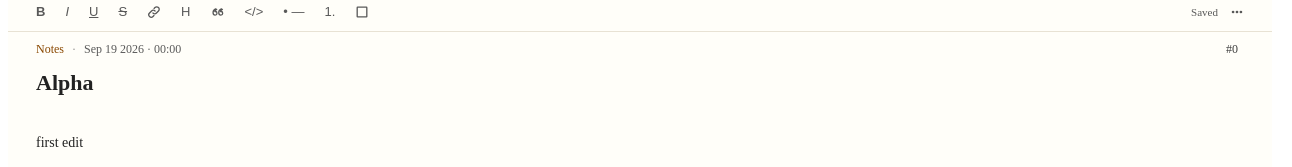
Test: keeps a newer DOM edit unsaved when an earlier local save finishes
This screenshot has width=1292, height=167.
(page scrolled)
Clear the field with class "editor-body" at (60, 142), box [36,135,83,150]
Wait 1500 ms
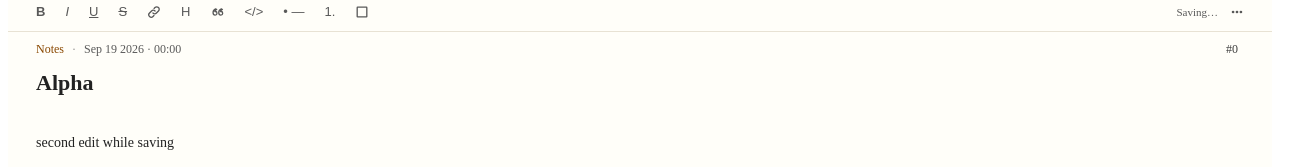
Clear the field with class "editor-body" at (105, 142), box [36,135,174,150]
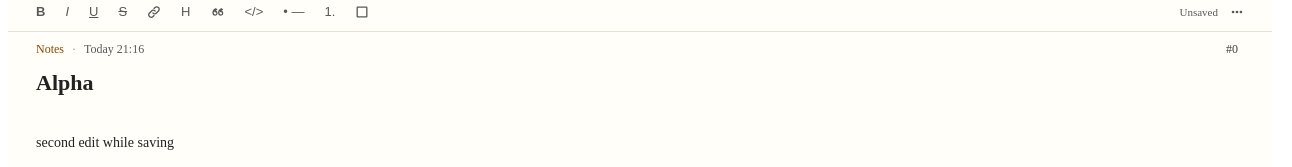
Expected: the message with class "save-status" reads "Unsaved", [1180,6,1218,18]
